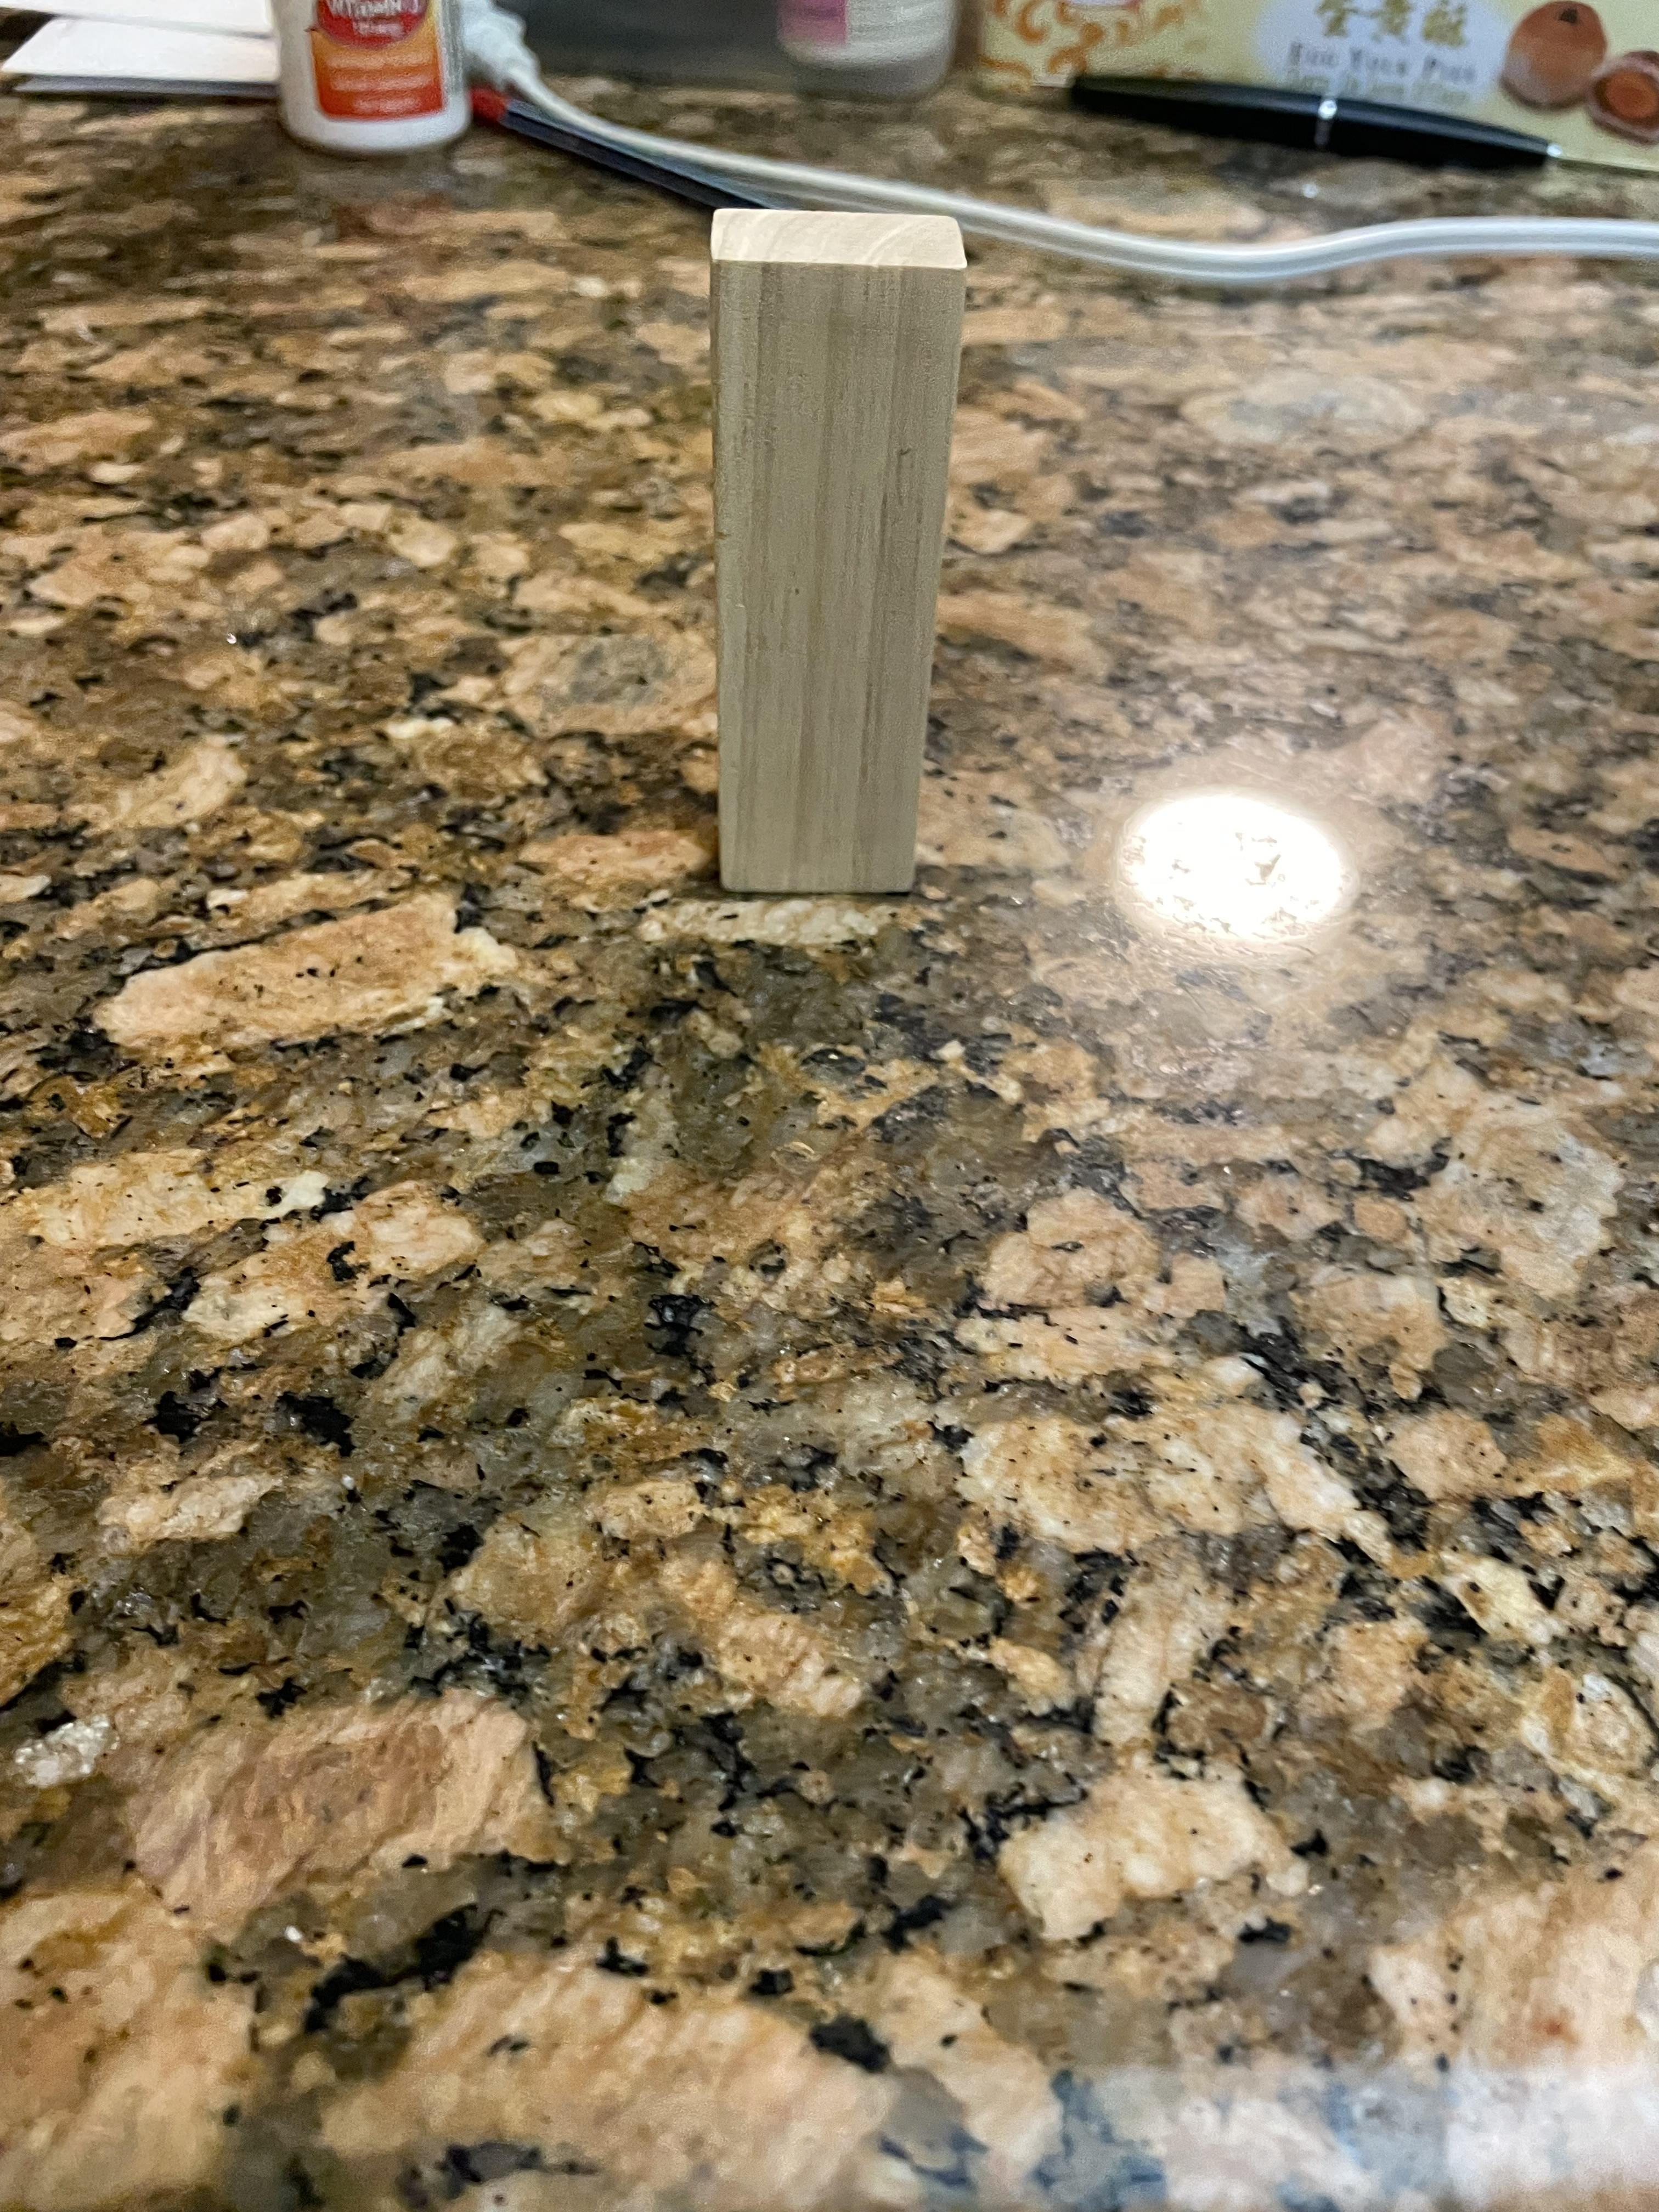jenga: (697, 186, 943, 907)
